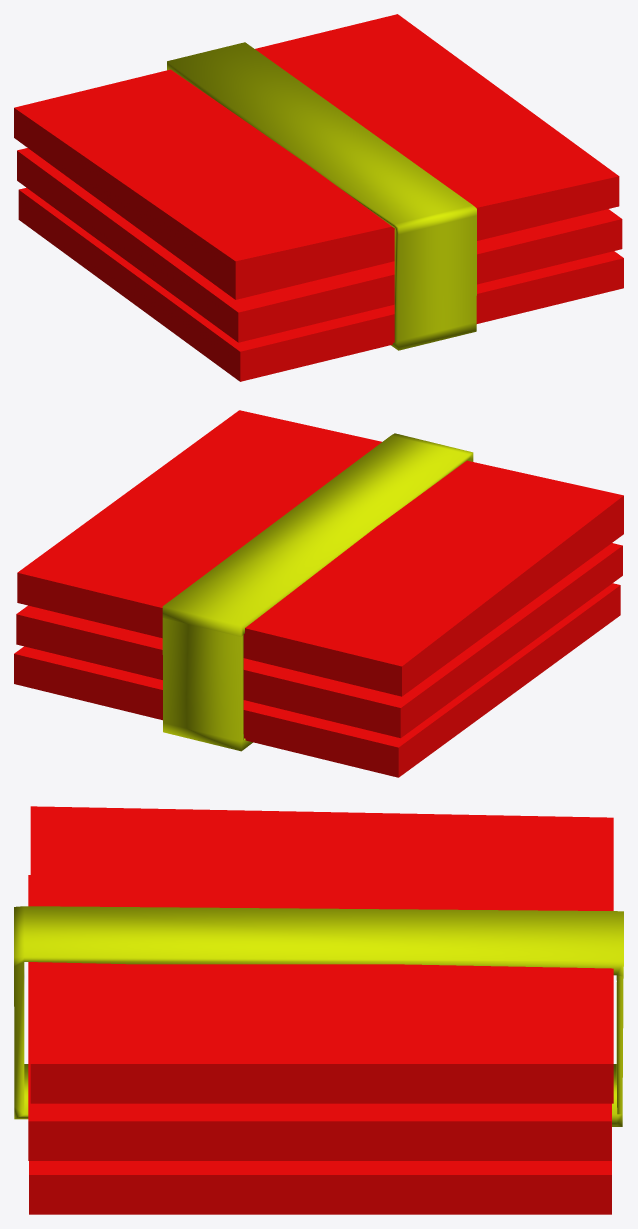
The model's file is Plastic.fbx.
3 renders of one model, top to bottom at view 1: azimuth 30°, elevation 25°; view 2: azimuth 150°, elevation 25°; view 3: azimuth 270°, elevation 25°, orthographic. The views are drawn at different scales.
Parts seen in each view (by area): view 1: Plane; view 2: Plane; view 3: Plane.
Part boxes in pixels (x1,y1,x2,y2): Plane: (14,14,623,381); Plane: (14,410,623,777); Plane: (14,806,623,1214).
Bounding box in the file's own units: 202 × 64.57 × 209.
